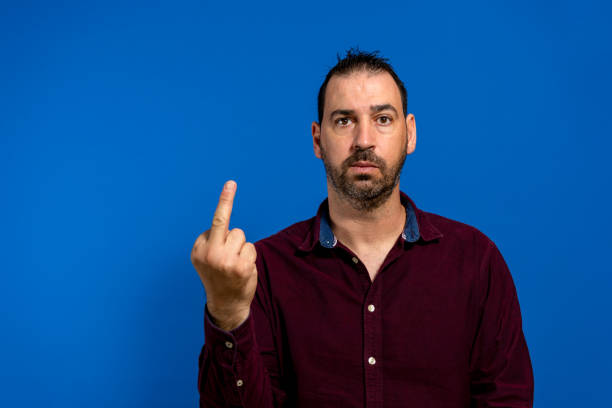insulting_gesture: (188, 181, 258, 313)
